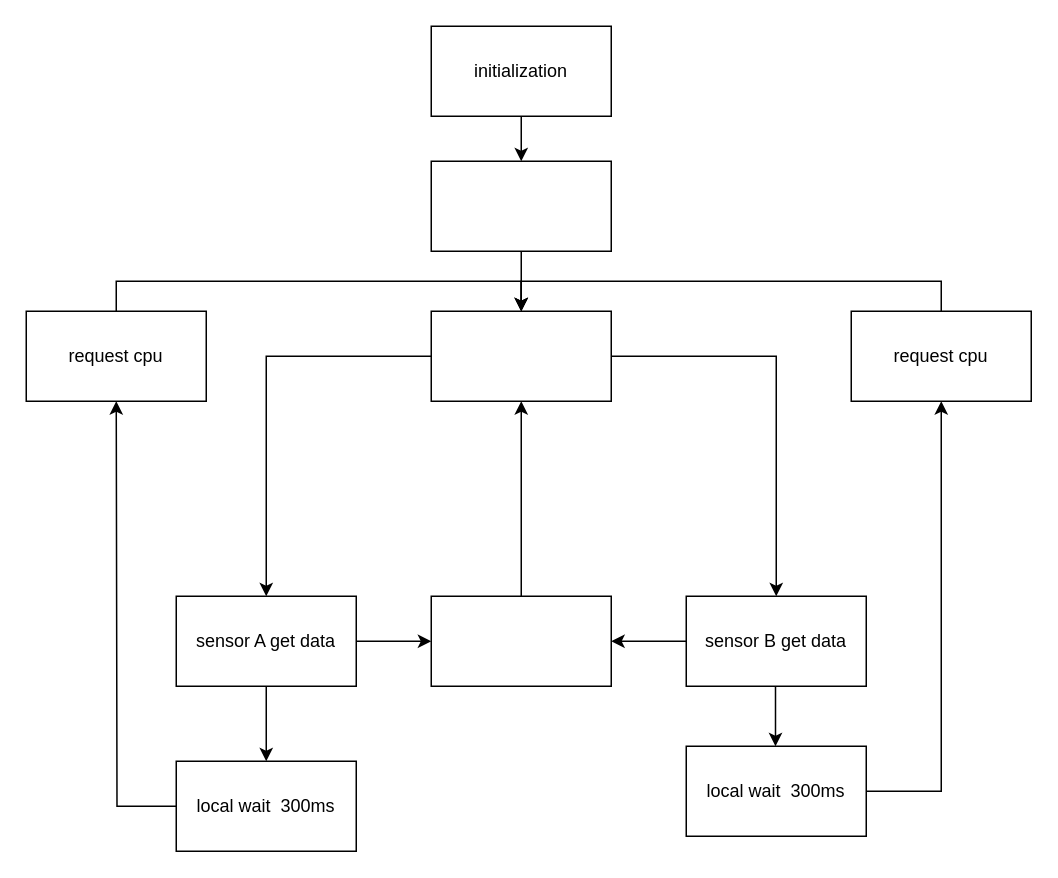
Some shapes in this 1058 by 878 pixel diagram are drawn without their labels. The shapes that lost their labels are listed below. From the top down, each one's box as (x1, y1, x2, y2) in pixels, then its label:
(430, 160, 611, 251): all sensor request cpu
(430, 310, 611, 401): cpu assign
(430, 595, 611, 686): Release cpu
